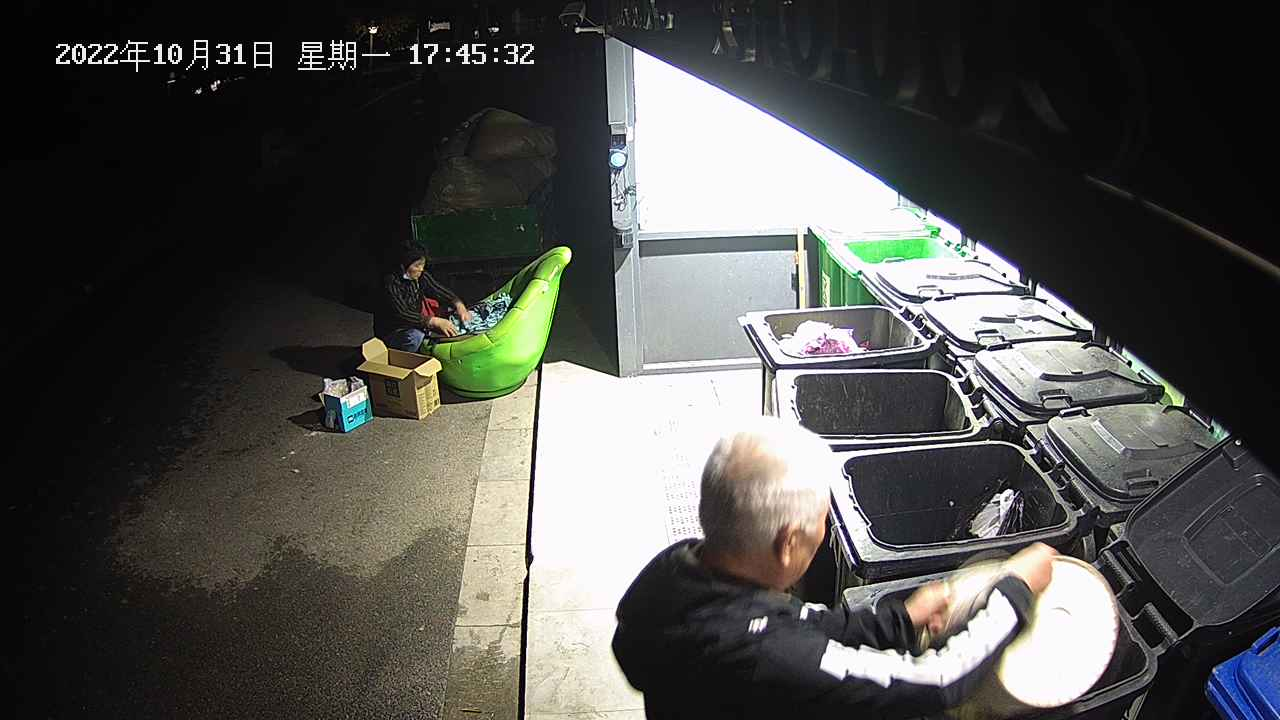person: (610, 414, 1059, 720), (371, 238, 470, 354)
zhizhipin: (355, 336, 443, 421), (316, 372, 374, 434)
